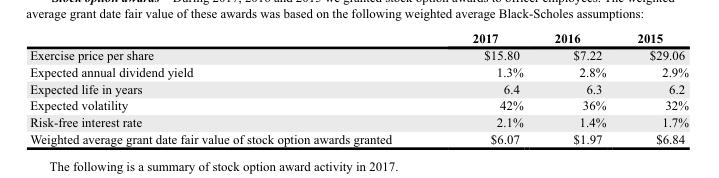table: (29, 28, 688, 147)
table column: (29, 28, 431, 147), (431, 28, 538, 147), (538, 28, 620, 147), (620, 28, 688, 147)
table column header: (29, 28, 688, 46)
table row: (29, 28, 688, 46), (29, 62, 688, 79), (29, 79, 688, 96), (29, 96, 688, 113), (29, 113, 688, 130), (29, 130, 688, 147), (29, 46, 688, 62)
